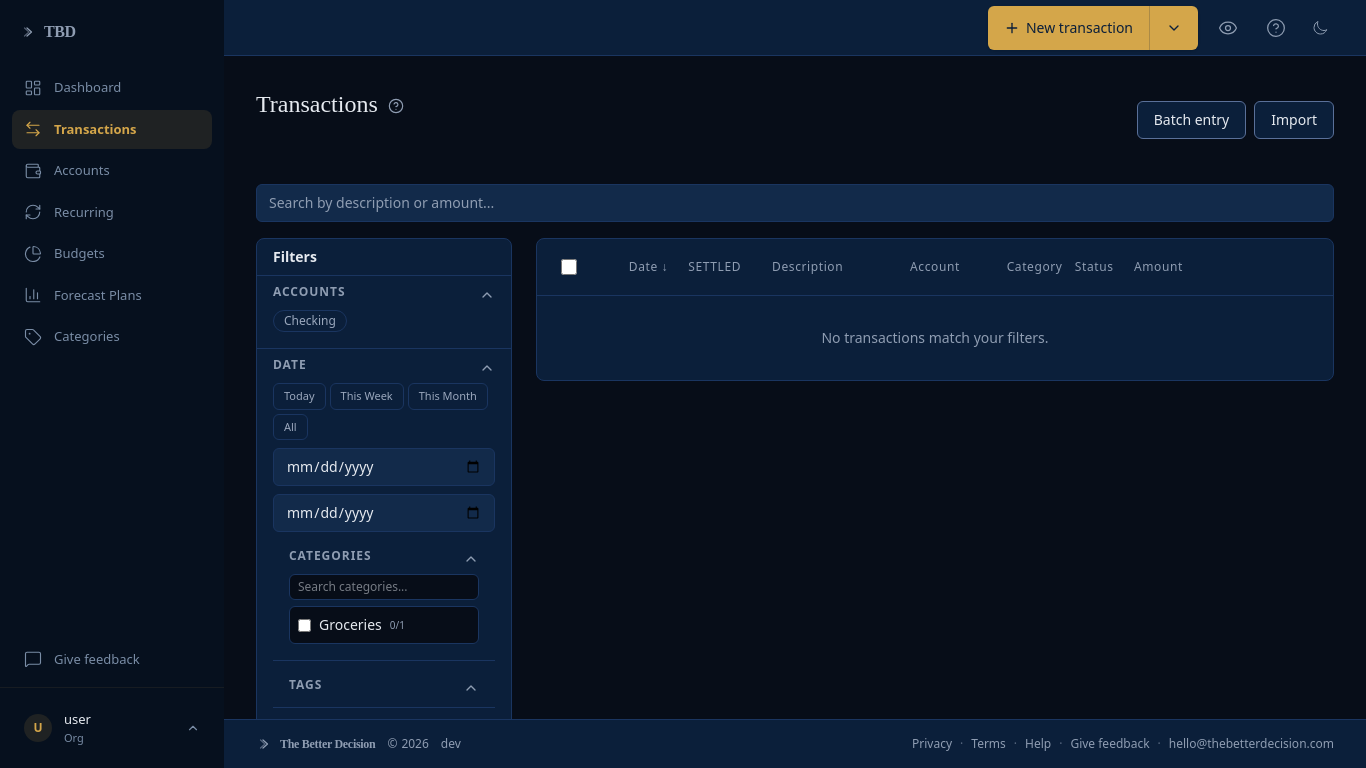
Test case: TransactionsPage - persisted sort and filters (item 6) › Clear search appears only with text, empties the search, refocuses it and leaves other filters alone
Click the button with aria-label "Account Checking" at (310, 321), box left=273, top=310, right=347, bottom=332
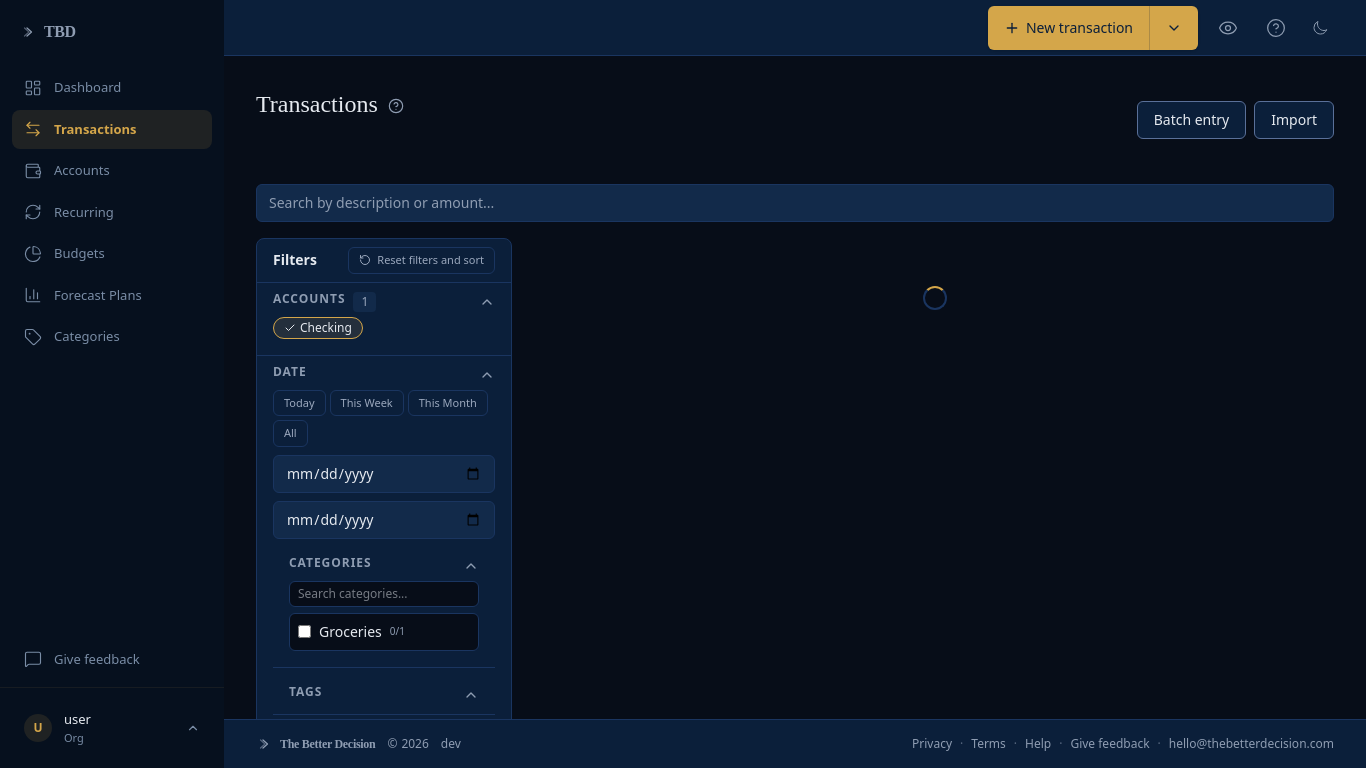
Type "rent" into the field named "Search transactions" at (795, 203), box left=256, top=184, right=1334, bottom=222
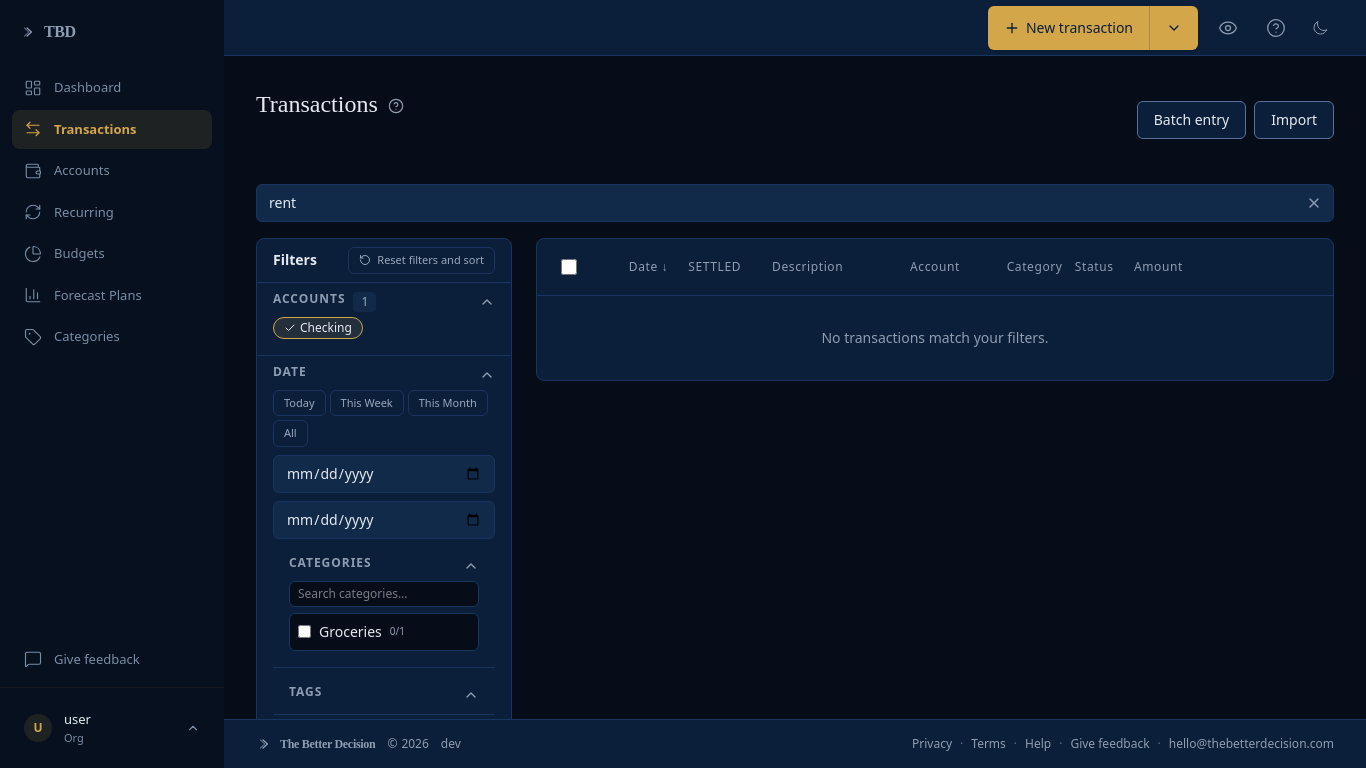
Click the button named "Clear search" at (1314, 203), box left=1294, top=184, right=1334, bottom=222
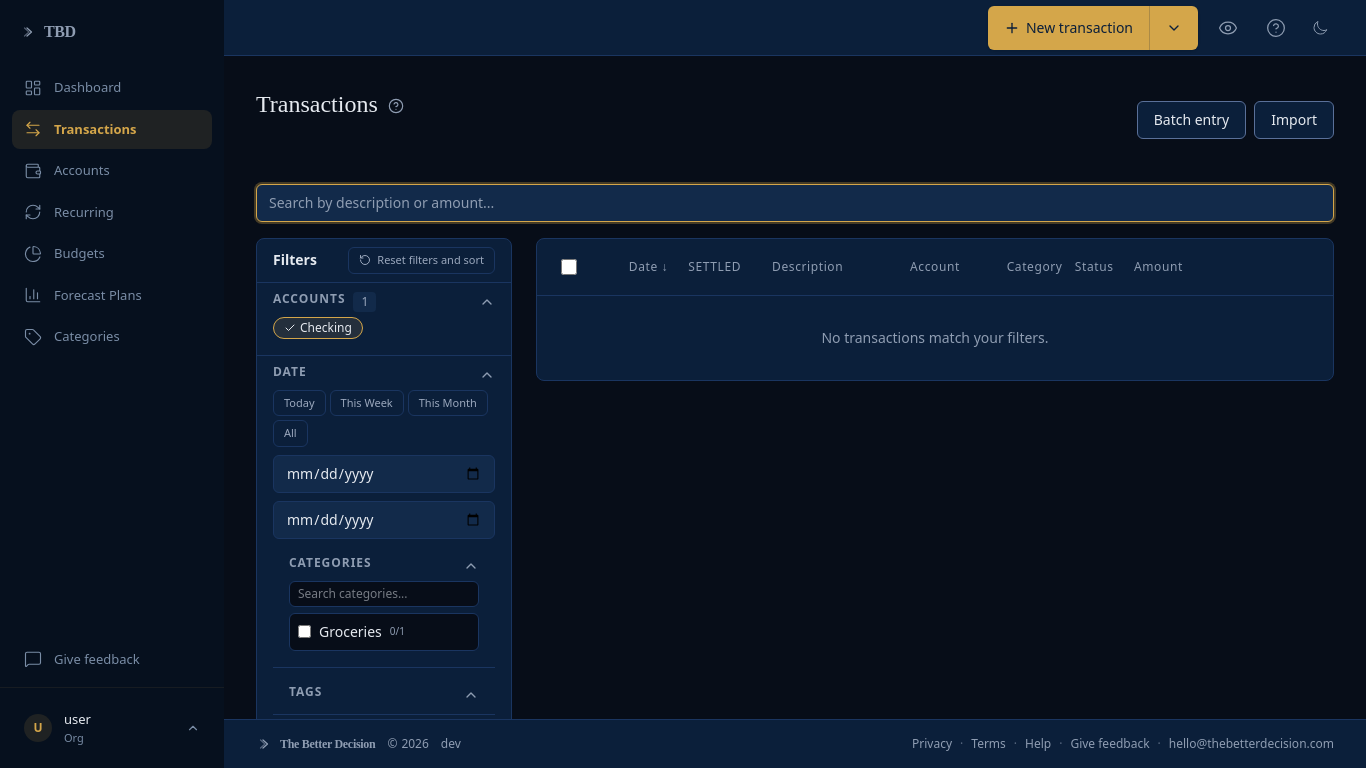
Check: the field named "Search transactions" is empty, box left=256, top=184, right=1334, bottom=222
